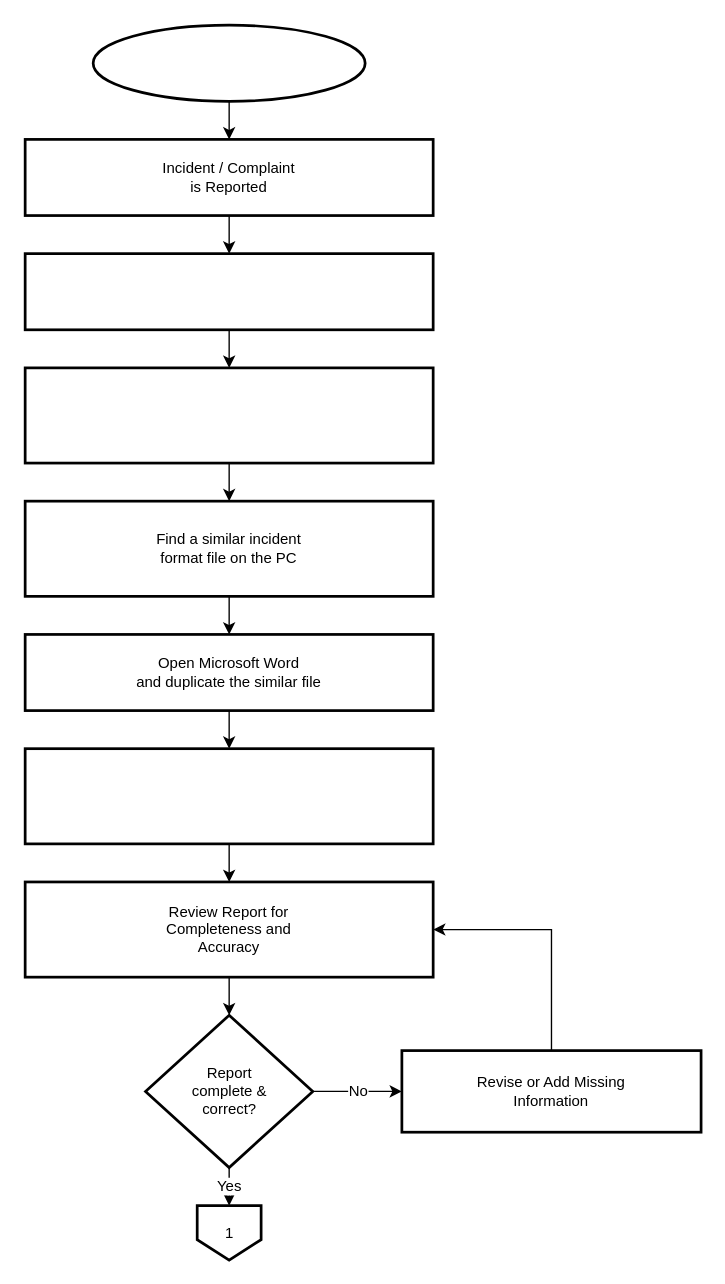
Image size: 725x1284. Some labels were removed from this diagram. Here are the shapes that lost their labels. From the top down, the centre of each, then its label:
the point at 228,62: Start
the point at 228,291: Desk Officer Receives the Report
the point at 228,415: Write the blotter entry in the log book
the point at 228,796: Create a new report, edit and encode the log-book text
